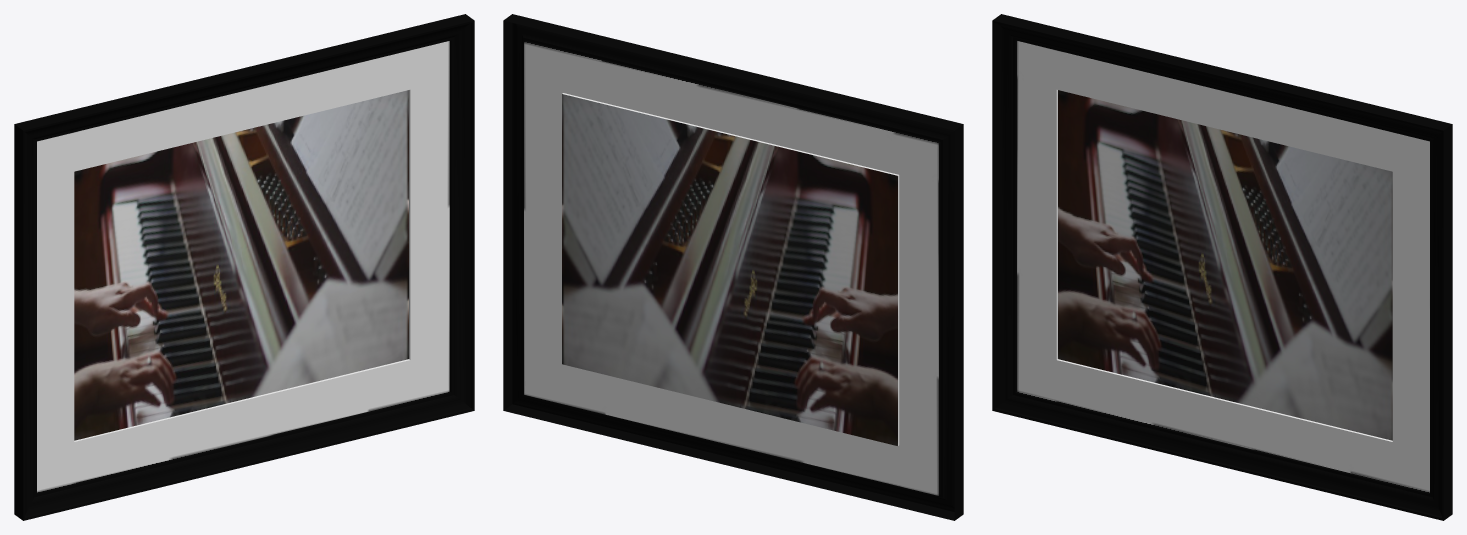
The model's file is SCp_Frame_Photo03.fbx.
3 renders of one model, left to right at view 1: azimuth 30°, elevation 25°; view 2: azimuth 150°, elevation 25°; view 3: azimuth 330°, elevation 25°, orthographic.
Visible parts, largest first — view 1: SCp_FramePhoto03; view 2: SCp_FramePhoto03; view 3: SCp_FramePhoto03.
Part boxes in pixels (x1,y1,x2,y2): SCp_FramePhoto03: (14,14,474,520); SCp_FramePhoto03: (503,14,963,520); SCp_FramePhoto03: (992,14,1452,520).
Bounding box in the file's own units: 1.15 × 0.95 × 0.04.
